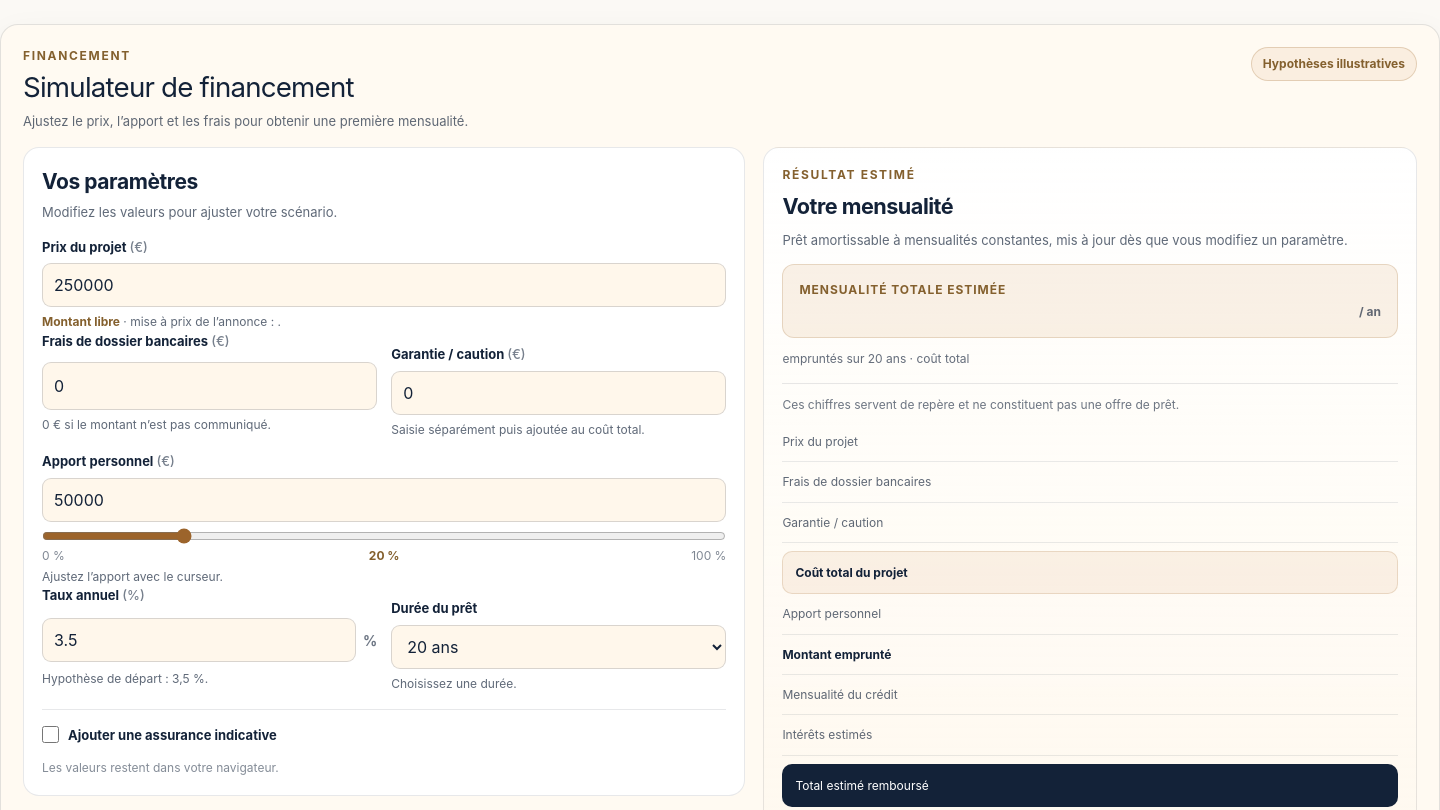
it: FinancingSimulator › shows an accessible validation message when the down payment exceeds the price
Replace the text in the number field labelled "Apport personnel (€)" with "300000". click: x=384, y=500
box: [42, 478, 726, 522]
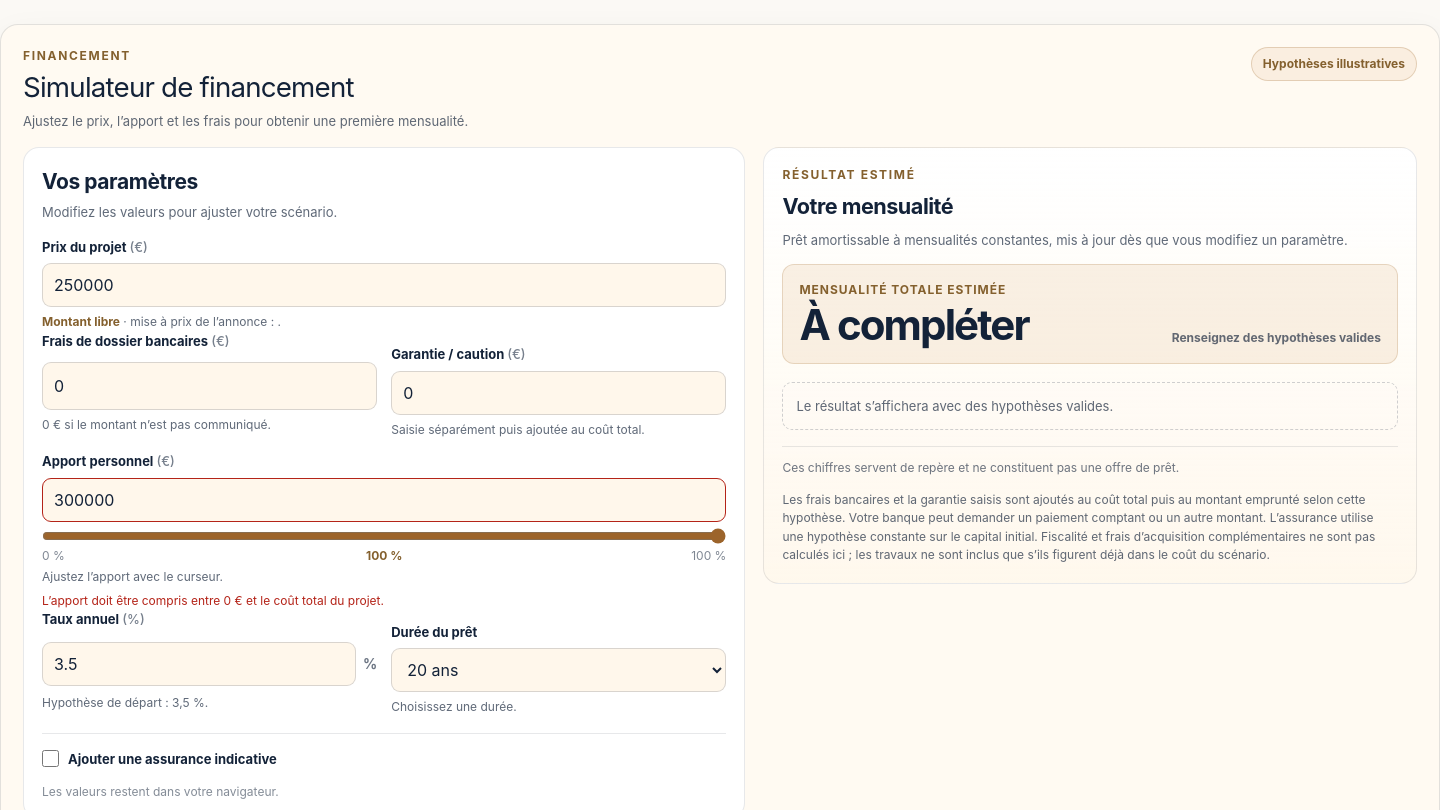
Check: the message "L’apport doit être compris entre 0 € et le coût total du projet." is shown, box [42, 593, 384, 608]
Check: the message "Mensualité totale estimée À compléter Renseignez des hypothèses valides" is shown, box [782, 264, 1398, 364]
